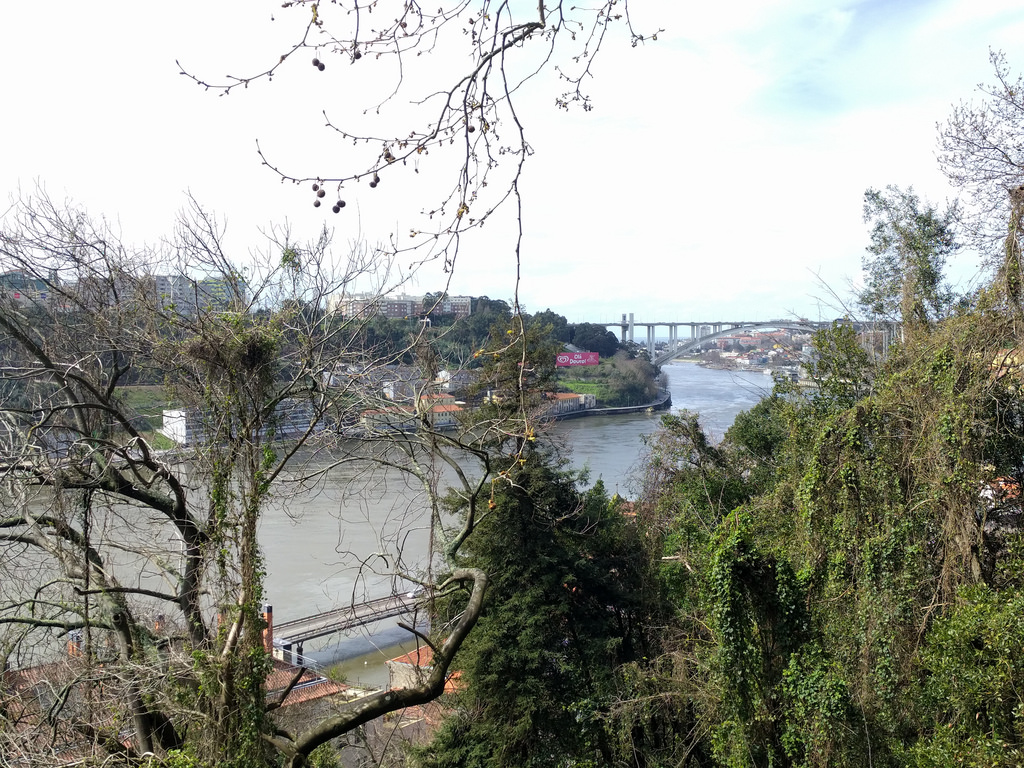arrabida: (594, 310, 901, 370)
